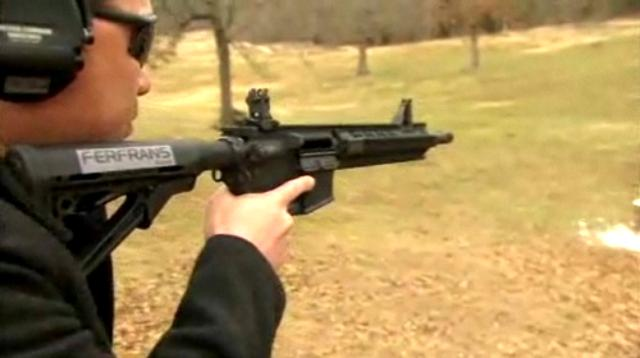rifle: (8, 84, 458, 288)
